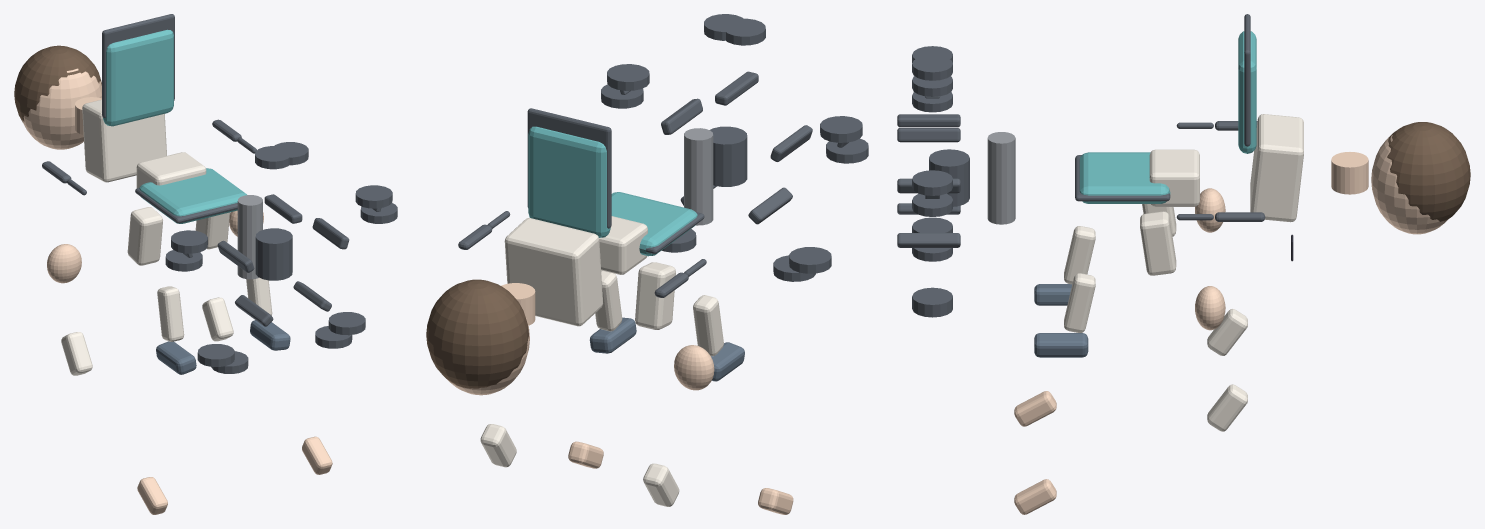
The model's file is hero_assembly.glb.
The picture shows the model from 3 angles, left to right: view 1: azimuth 30°, elevation 25°; view 2: azimuth 150°, elevation 25°; view 3: azimuth 270°, elevation 25°; orthographic projection. The views are drawn at different scales.
Visible parts, largest first — view 1: Chair, Worker; view 2: Worker, Chair; view 3: Worker, Chair.
Part boxes in pixels (left/top/right/bottom): Chair: left=42, top=14, right=397, bottom=373; Worker: left=14, top=45, right=332, bottom=514; Worker: left=426, top=216, right=793, bottom=514; Chair: left=458, top=14, right=868, bottom=297; Worker: left=1014, top=114, right=1470, bottom=514; Chair: left=897, top=14, right=1265, bottom=317.
Size of the model in its own units: 0.7743 by 1.29 by 1.54.
